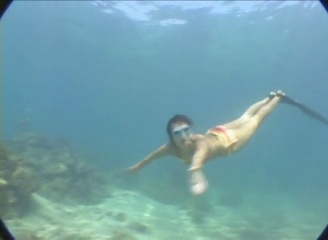person: (157, 86, 312, 197)
